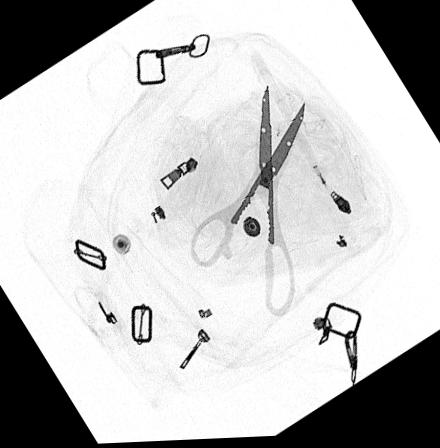Scissors: (187, 87, 304, 318)
